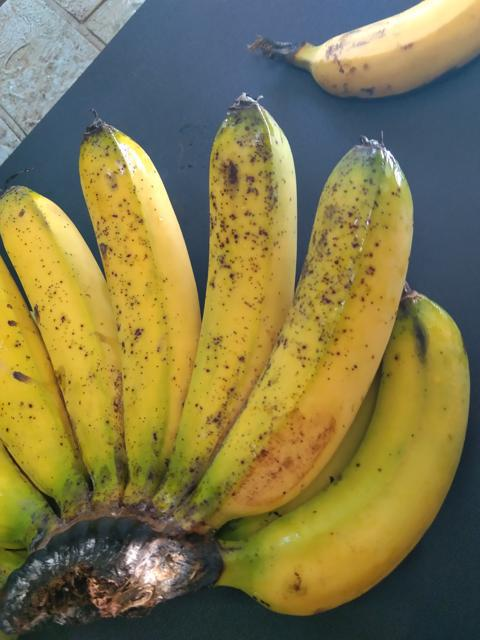ripe: (193, 138, 416, 539), (236, 282, 472, 613), (73, 93, 206, 507), (171, 97, 292, 504), (0, 134, 116, 482), (323, 0, 479, 107)
